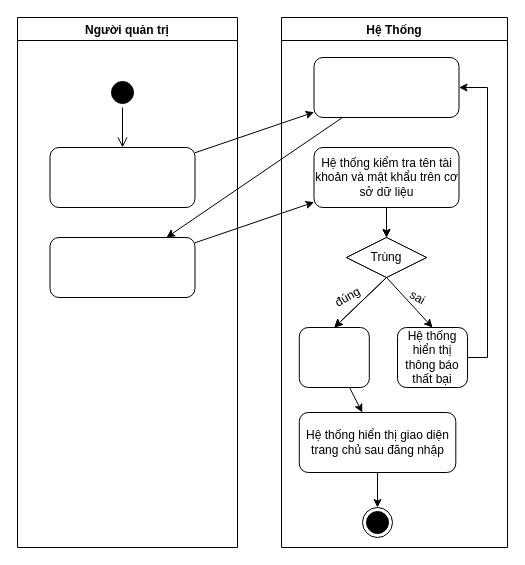
This 525x565 diagram has some shape labels left out. Here are the shapes that lost their labels. From the top down, the centre of each, then its label:
At point 386,87: "Hệ thống hiển thị giao diện đăng nhập".
At point 122,177: "Người quản trị chọn chức năng đăng nhập trên giao diện trang chủ".
At point 122,267: "Người quản trị nhập tên tài khoản và mật khẩu".
At point 333,357: "Hệ thống hiển thị thông báo thành công".
